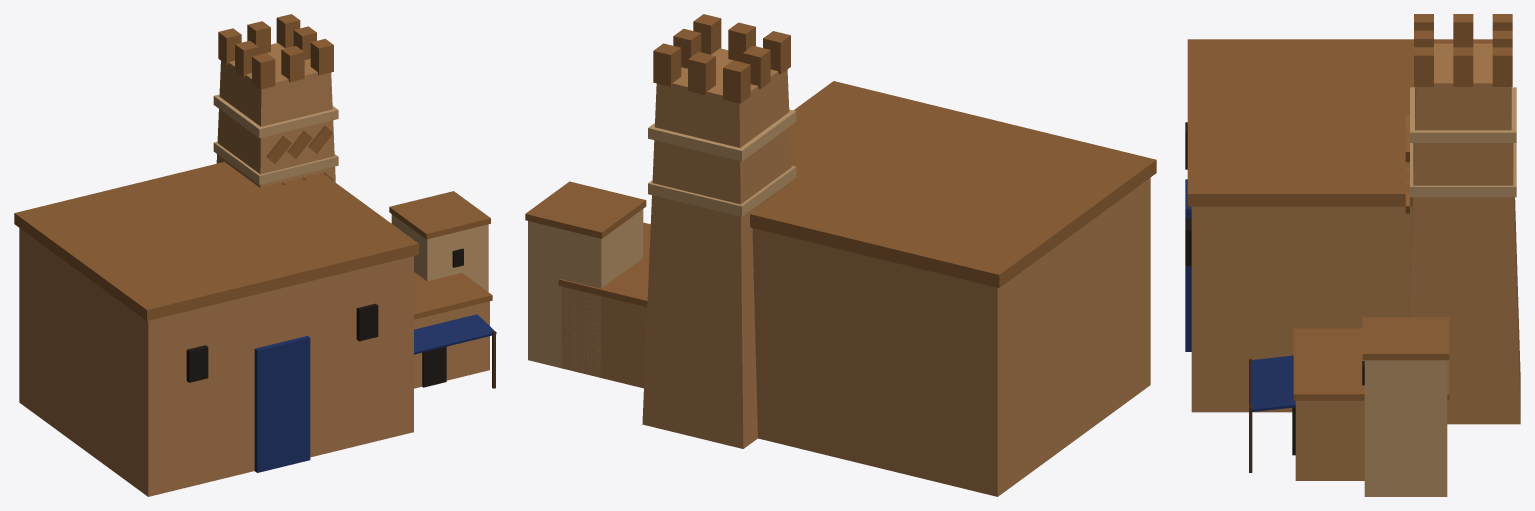
Rendered from fennec_hall.glb.
The picture shows the model from 3 angles, left to right: view 1: azimuth 30°, elevation 25°; view 2: azimuth 150°, elevation 25°; view 3: azimuth 270°, elevation 25°; orthographic projection. The views are drawn at different scales.
Visible parts, largest first — view 1: fennec_hall; view 2: fennec_hall; view 3: fennec_hall.
Part boxes in pixels (bbox=[...]): fennec_hall: bbox=[14, 14, 496, 496]; fennec_hall: bbox=[525, 14, 1156, 496]; fennec_hall: bbox=[1185, 14, 1520, 496].
Size of the model in its own units: 5.72 by 4.09 by 3.4.
